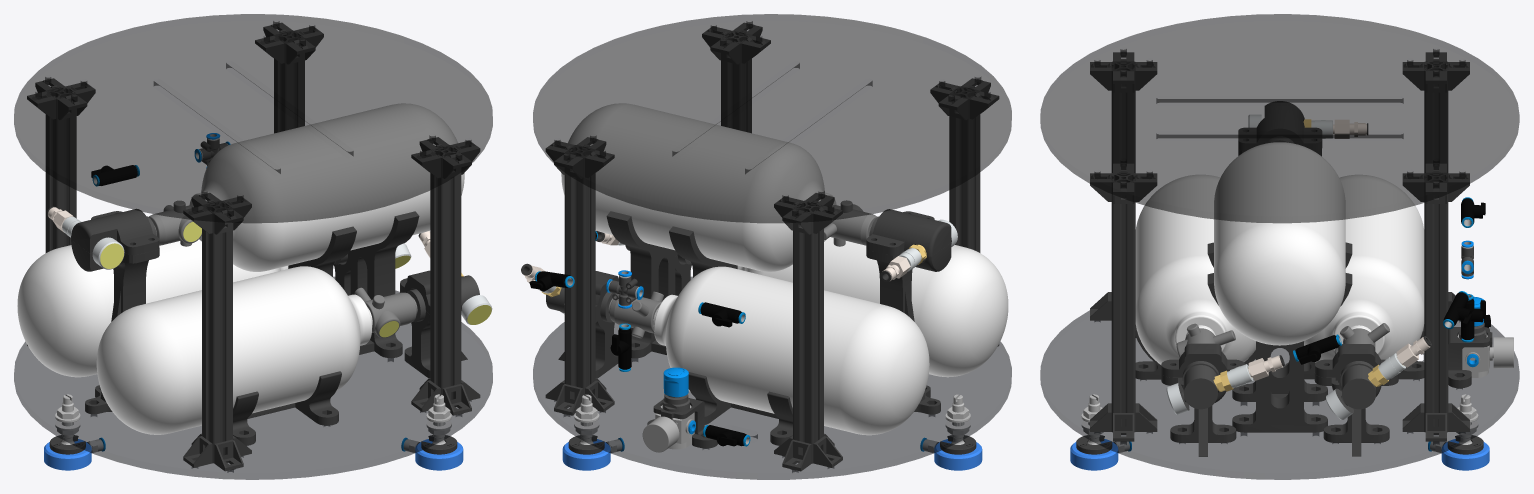
The model's file is icarus.glb.
3 views of the same model, side by side, from view 1: azimuth 30°, elevation 25°; view 2: azimuth 150°, elevation 25°; view 3: azimuth 270°, elevation 25° (orthographic).
Parts seen in each view (by area): view 1: Air Bearing Chassis Top Plate-1 - Part, 4500psi1_5Lbottle-1 3 - Part, Air Bearing Chassis Base Plate-1 - Part, 4500psi1_5Lbottle-1 - Part, 4500psi1_5Lbottle-1 2 - Part, 5537T228_T-Slotted Framing-3 - Part, 5537T228_T-Slotted Framing-4 - Part, bottle_mount_hori_top-1 - Part, 5537T228_T-Slotted Framing-2 - Part, bottle_conncet_bot_mid-1 - Part, bottle_conncet_top_mid-1 - Part, bottle_mount_hori-3 - Part (+21 smaller); view 2: Air Bearing Chassis Top Plate-1 - Part, 4500psi1_5Lbottle-1 2 - Part, 4500psi1_5Lbottle-1 - Part, Air Bearing Chassis Base Plate-1 - Part, 4500psi1_5Lbottle-1 3 - Part, 5537T228_T-Slotted Framing-1 - Part, 5537T228_T-Slotted Framing-2 - Part, bottle_mount_hori_top-1 - Part, 5537T228_T-Slotted Framing-4 - Part, bottle_conncet_top_mid-1 - Part, bottle_conncet_bot_mid-1 - Part, 5537T228_T-Slotted Framing-3 - Part (+25 smaller); view 3: Air Bearing Chassis Top Plate-1 - Part, Air Bearing Chassis Base Plate-1 - Part, 4500psi1_5Lbottle-1 - Part, 4500psi1_5Lbottle-1 3 - Part, 4500psi1_5Lbottle-1 2 - Part, bottle_mount_hori_top-1 - Part, 5537T228_T-Slotted Framing-3 - Part, 5537T228_T-Slotted Framing-1 - Part, bottle_conncet_top_mid-1 - Part, 5537T228_T-Slotted Framing-2 - Part, 5537T228_T-Slotted Framing-4 - Part, bottle_conncet_bot-3 - Part (+28 smaller).
Boxes of the visible parts, x1=… form: Air Bearing Chassis Top Plate-1 - Part: x1=14, y1=14, x2=492, y2=223; 4500psi1_5Lbottle-1 3 - Part: x1=96, y1=266, x2=372, y2=434; Air Bearing Chassis Base Plate-1 - Part: x1=14, y1=276, x2=492, y2=479; 4500psi1_5Lbottle-1 - Part: x1=189, y1=103, x2=464, y2=271; 4500psi1_5Lbottle-1 2 - Part: x1=17, y1=239, x2=288, y2=377; 5537T228_T-Slotted Framing-3 - Part: x1=430, y1=145, x2=461, y2=399; 5537T228_T-Slotted Framing-4 - Part: x1=202, y1=200, x2=232, y2=463; bottle_mount_hori_top-1 - Part: x1=288, y1=211, x2=419, y2=358; 5537T228_T-Slotted Framing-2 - Part: x1=45, y1=86, x2=76, y2=252; bottle_conncet_bot_mid-1 - Part: x1=71, y1=240, x2=159, y2=414; bottle_conncet_top_mid-1 - Part: x1=71, y1=209, x2=159, y2=255; bottle_mount_hori-3 - Part: x1=233, y1=371, x2=341, y2=445; Air Bearing Chassis Top Plate-1 - Part: x1=533, y1=14, x2=1011, y2=223; 4500psi1_5Lbottle-1 2 - Part: x1=653, y1=266, x2=929, y2=435; 4500psi1_5Lbottle-1 - Part: x1=561, y1=103, x2=836, y2=271; Air Bearing Chassis Base Plate-1 - Part: x1=533, y1=276, x2=1011, y2=479; 4500psi1_5Lbottle-1 3 - Part: x1=737, y1=237, x2=1008, y2=377; 5537T228_T-Slotted Framing-1 - Part: x1=564, y1=145, x2=595, y2=399; 5537T228_T-Slotted Framing-2 - Part: x1=793, y1=200, x2=823, y2=463; bottle_mount_hori_top-1 - Part: x1=606, y1=211, x2=737, y2=358; 5537T228_T-Slotted Framing-4 - Part: x1=949, y1=86, x2=980, y2=252; bottle_conncet_top_mid-1 - Part: x1=866, y1=209, x2=951, y2=256; bottle_conncet_bot_mid-1 - Part: x1=866, y1=243, x2=951, y2=414; 5537T228_T-Slotted Framing-3 - Part: x1=721, y1=30, x2=751, y2=133; Air Bearing Chassis Top Plate-1 - Part: x1=1040, y1=14, x2=1519, y2=223; Air Bearing Chassis Base Plate-1 - Part: x1=1040, y1=310, x2=1519, y2=479; 4500psi1_5Lbottle-1 - Part: x1=1214, y1=142, x2=1345, y2=345; 4500psi1_5Lbottle-1 3 - Part: x1=1135, y1=174, x2=1255, y2=364; 4500psi1_5Lbottle-1 2 - Part: x1=1304, y1=174, x2=1424, y2=362; bottle_mount_hori_top-1 - Part: x1=1207, y1=242, x2=1352, y2=432; 5537T228_T-Slotted Framing-3 - Part: x1=1111, y1=172, x2=1135, y2=432; 5537T228_T-Slotted Framing-1 - Part: x1=1424, y1=172, x2=1448, y2=432; bottle_conncet_top_mid-1 - Part: x1=1238, y1=101, x2=1322, y2=151; 5537T228_T-Slotted Framing-2 - Part: x1=1424, y1=61, x2=1448, y2=172; 5537T228_T-Slotted Framing-4 - Part: x1=1111, y1=61, x2=1135, y2=172; bottle_conncet_bot-3 - Part: x1=1314, y1=373, x2=1398, y2=456.
Bounding box in the file's own units: 0.3998 × 0.277 × 0.4.
